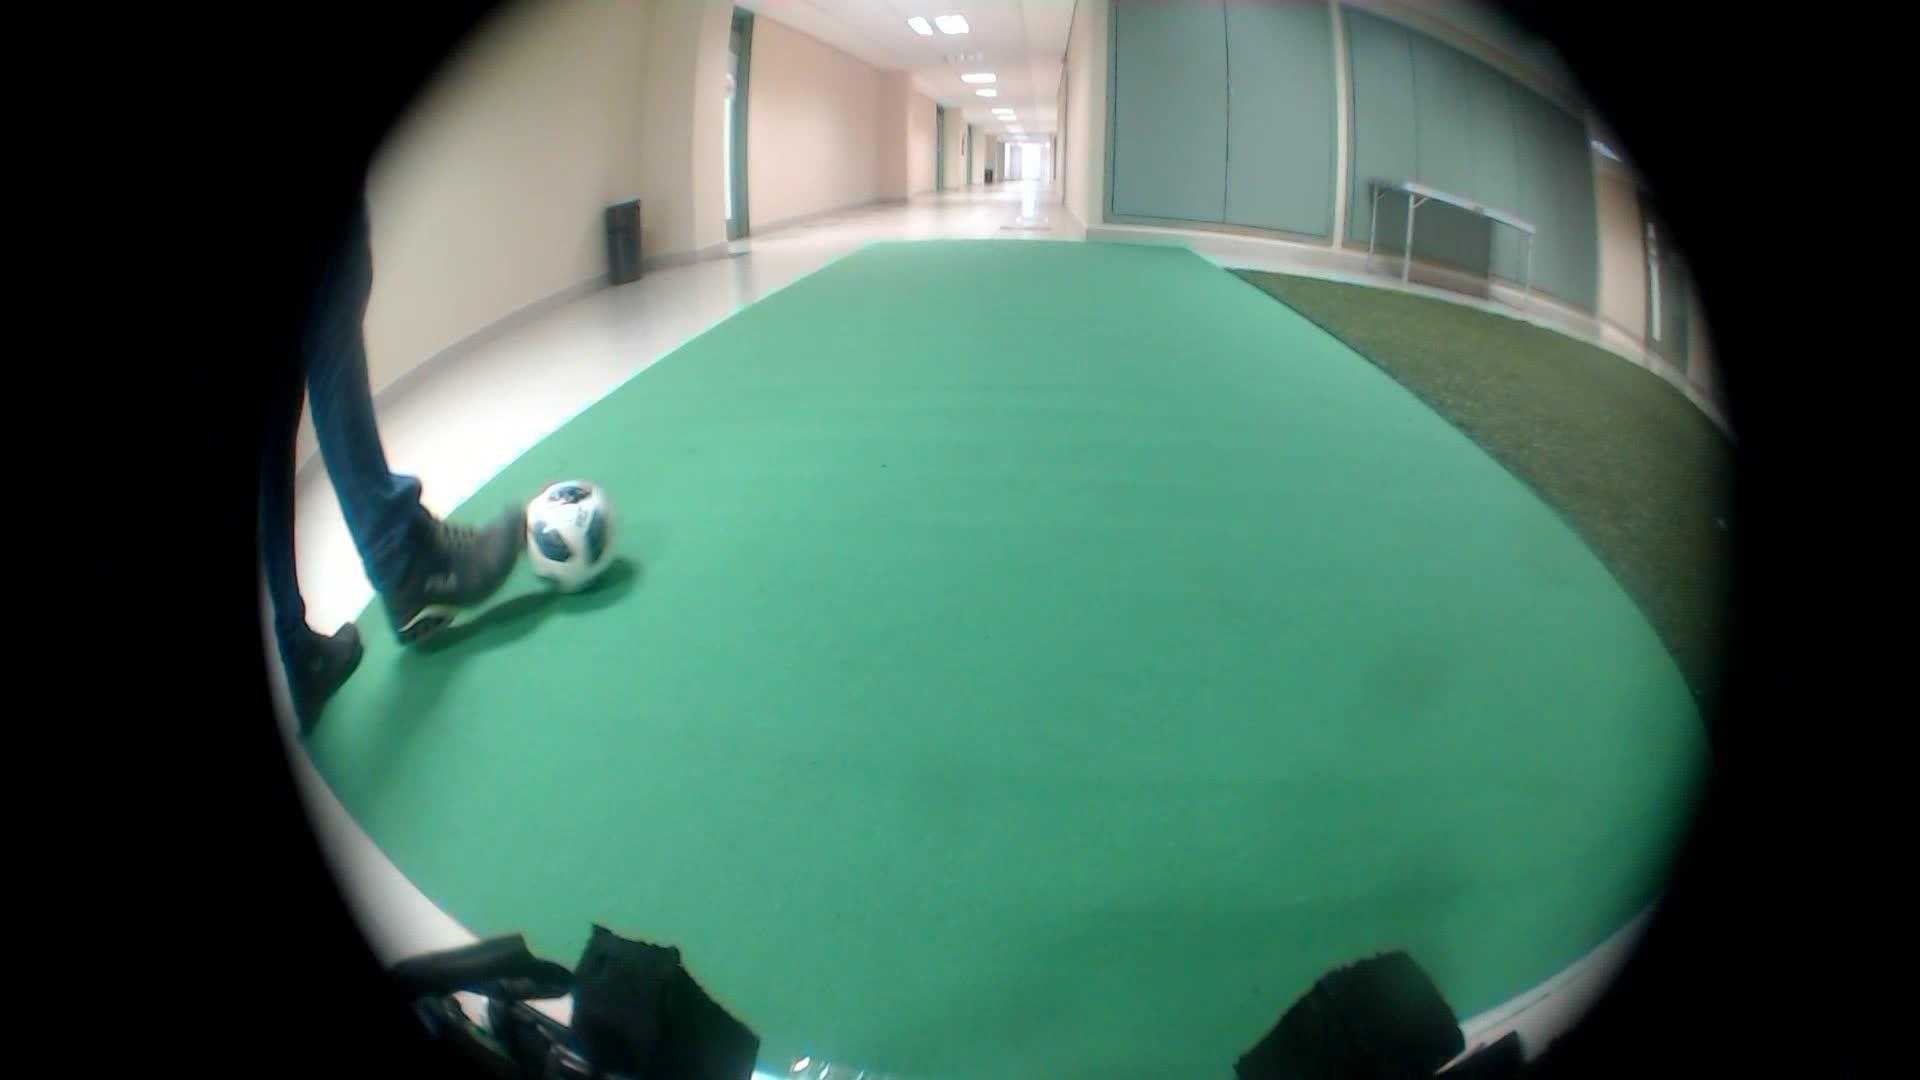ball: (491, 468, 629, 607)
